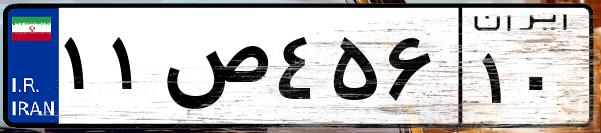0: (525, 38, 570, 115)
1: (57, 26, 110, 100), (475, 38, 525, 113), (110, 28, 158, 98)
4: (270, 28, 330, 110)
5: (330, 28, 385, 110)
6: (385, 28, 445, 110)
ص: (158, 20, 270, 120)
